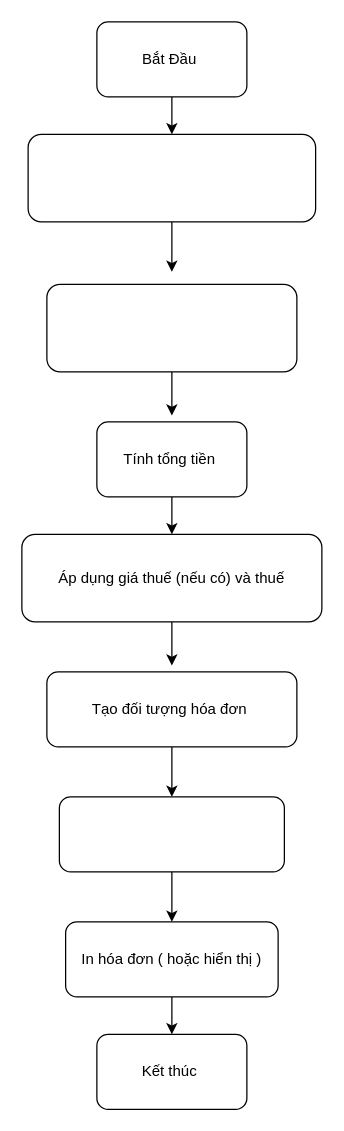
The diagram is 344 pixels wide and 1131 high, and some of its shapes have lost their labels. The shapes that lost their labels are listed below. From the top down, each one's centre as x and y in pixels, then its label:
At pixel 171 177: "Nhập thông tin khách hàng".
At pixel 171 327: "Nhập danh sách sản phẩm khách mua".
At pixel 171 834: "Lưu vào cơ sở dữ liệu/ File".
